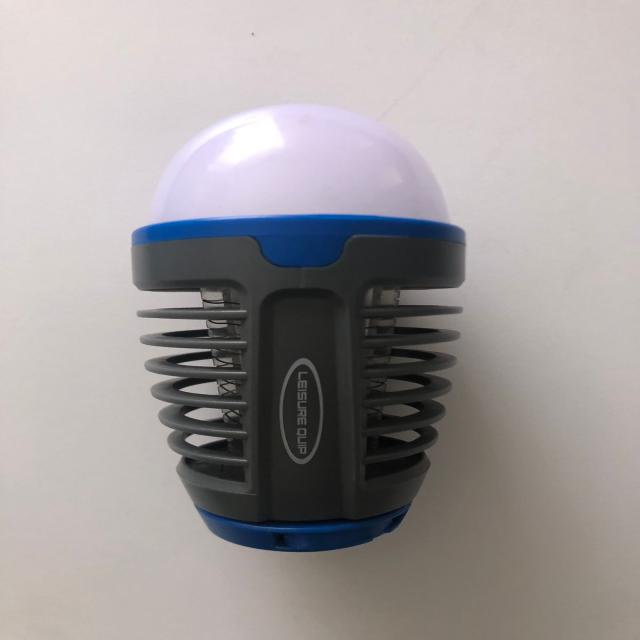Mosquito Killer: (129, 102, 468, 553)
